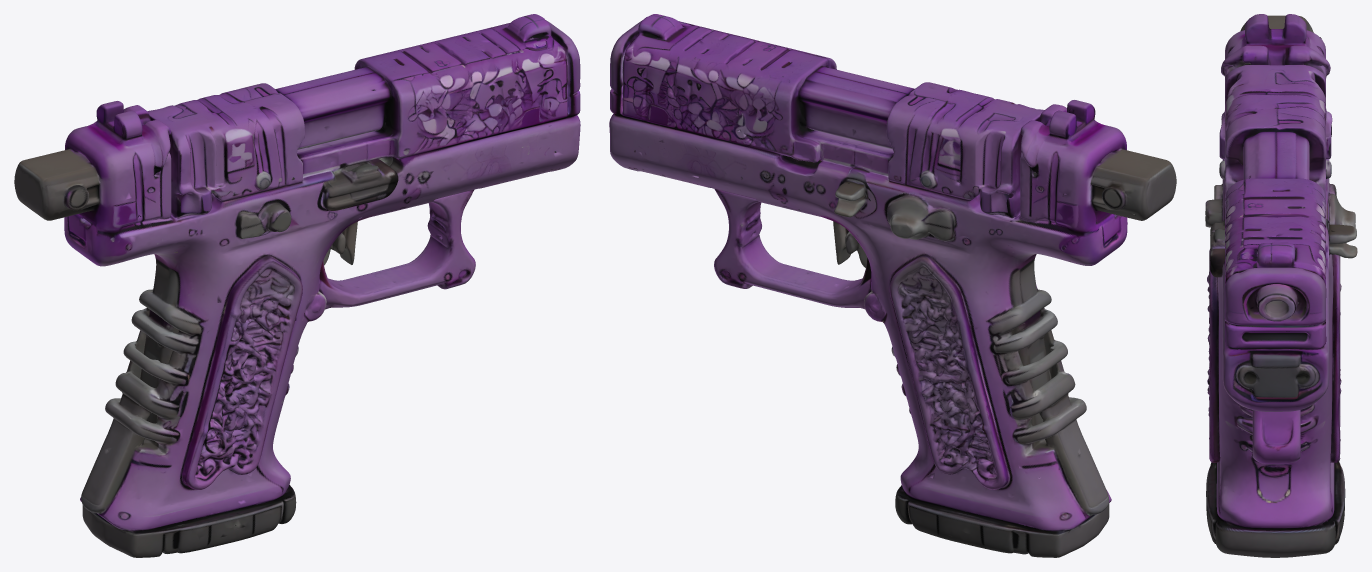
File: arma1.glb
3 views of the same model, side by side, from view 1: azimuth 30°, elevation 25°; view 2: azimuth 150°, elevation 25°; view 3: azimuth 270°, elevation 25° (orthographic). The views are drawn at different scales.
Visible parts, largest first — view 1: tripo_node_03a247a2-6c62-406e-9d7e-e350cfbd6091; view 2: tripo_node_03a247a2-6c62-406e-9d7e-e350cfbd6091; view 3: tripo_node_03a247a2-6c62-406e-9d7e-e350cfbd6091.
Part boxes in pixels (bbox=[...]): tripo_node_03a247a2-6c62-406e-9d7e-e350cfbd6091: bbox=[14, 14, 580, 557]; tripo_node_03a247a2-6c62-406e-9d7e-e350cfbd6091: bbox=[609, 14, 1176, 557]; tripo_node_03a247a2-6c62-406e-9d7e-e350cfbd6091: bbox=[1205, 14, 1357, 557].
Bounding box in the file's own units: 0.9999 × 0.7718 × 0.2298.
Materials: 1 (1 with a texture image).
